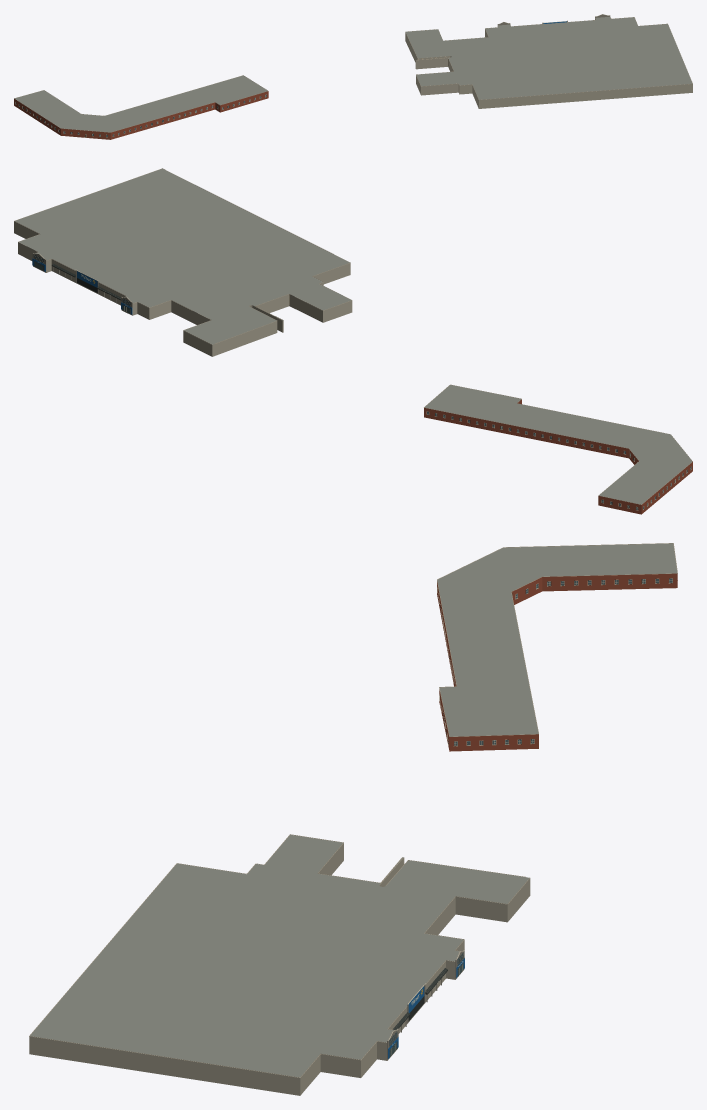
3 views of the same model, one above another, from view 1: azimuth 30°, elevation 25°; view 2: azimuth 150°, elevation 25°; view 3: azimuth 270°, elevation 25° (orthographic). The views are drawn at different scales.
Parts seen in each view (by area): view 1: -9_1_270909546_0, -9_1_271016805_2; view 2: -9_1_270909546_0, -9_1_271016805_2; view 3: -9_1_270909546_0, -9_1_271016805_2.
Part boxes in pixels (left/top/right/bottom): -9_1_270909546_0: left=14, top=16, right=692, bottom=139; -9_1_271016805_2: left=405, top=14, right=692, bottom=108; -9_1_270909546_0: left=14, top=168, right=692, bottom=514; -9_1_271016805_2: left=14, top=221, right=352, bottom=356; -9_1_270909546_0: left=29, top=543, right=677, bottom=1077; -9_1_271016805_2: left=29, top=843, right=530, bottom=1095.
Bounding box in the file's own units: 459 × 12.82 × 230.
